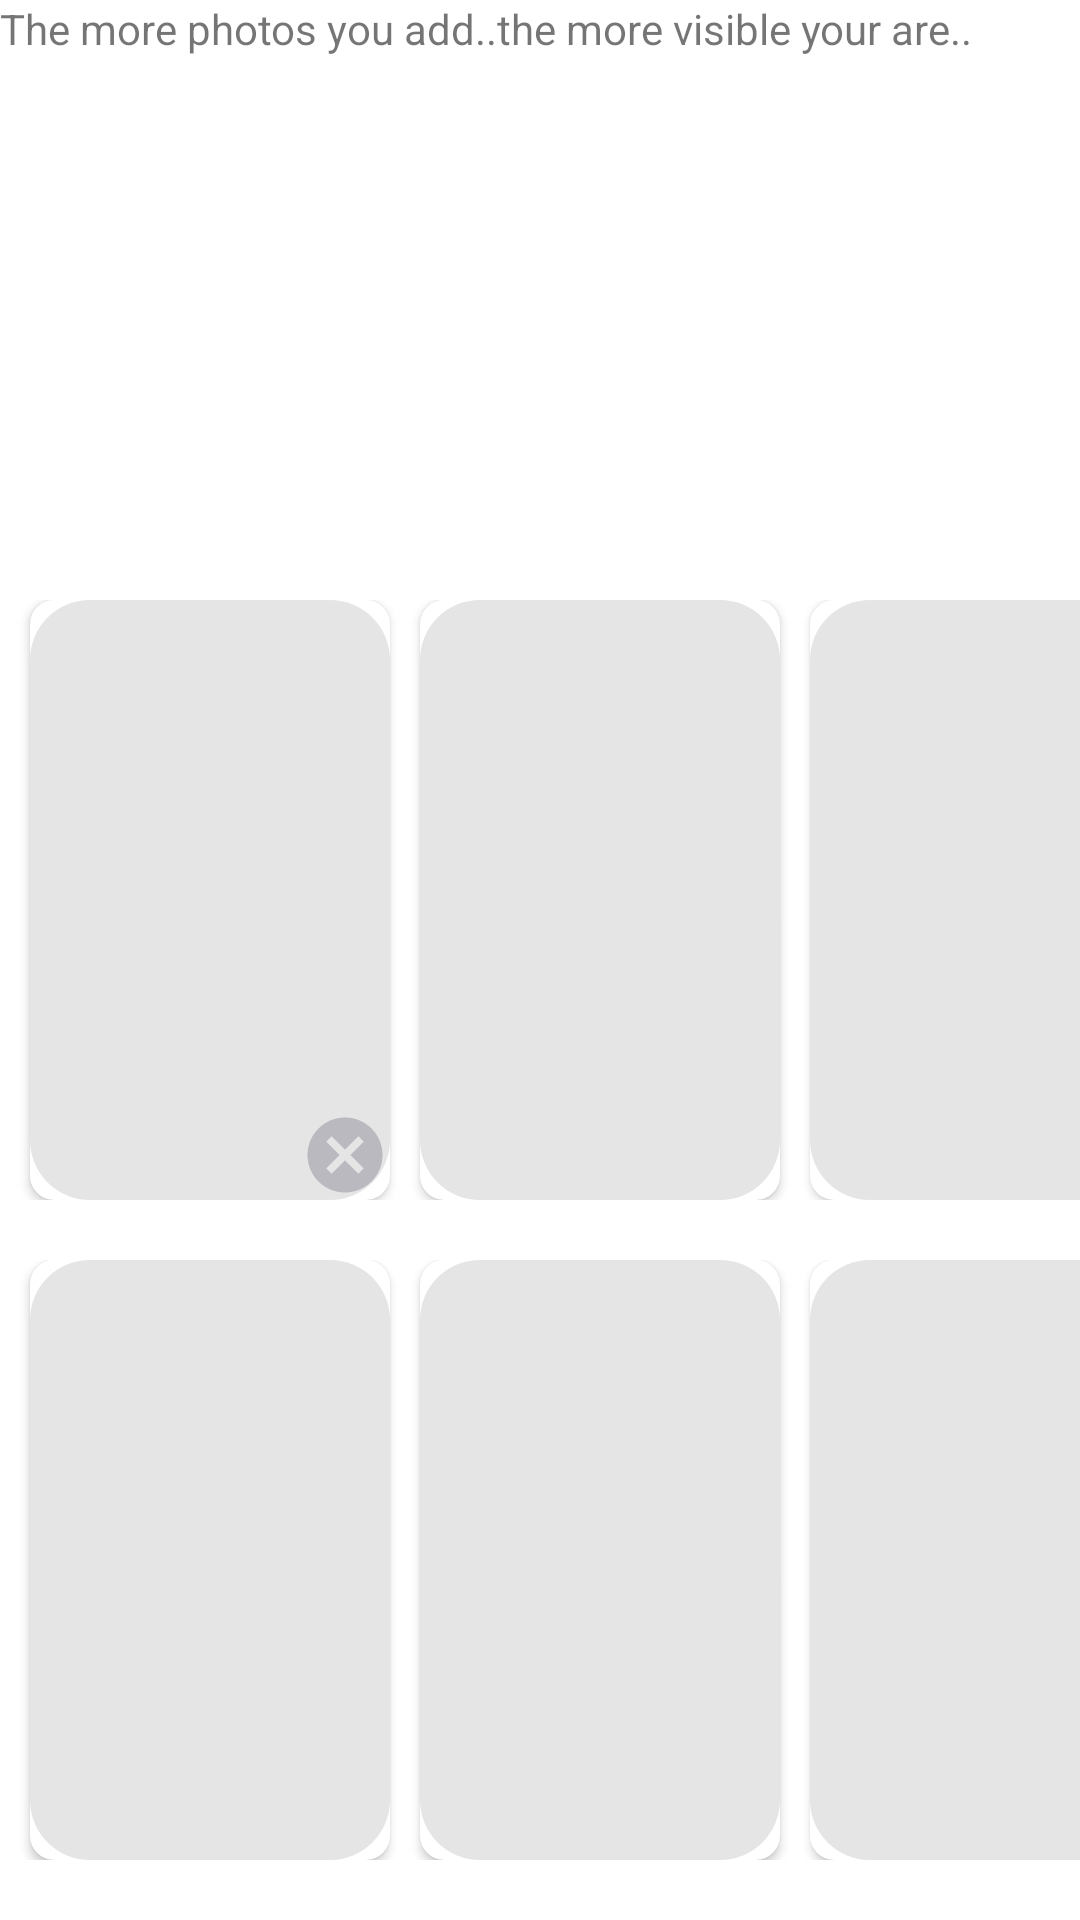

Icon bounding boxes for this 1080x1920 phone screenshot, format box(x1, y1, x2, y2):
Cancel Image: box(308, 1118, 382, 1192)
